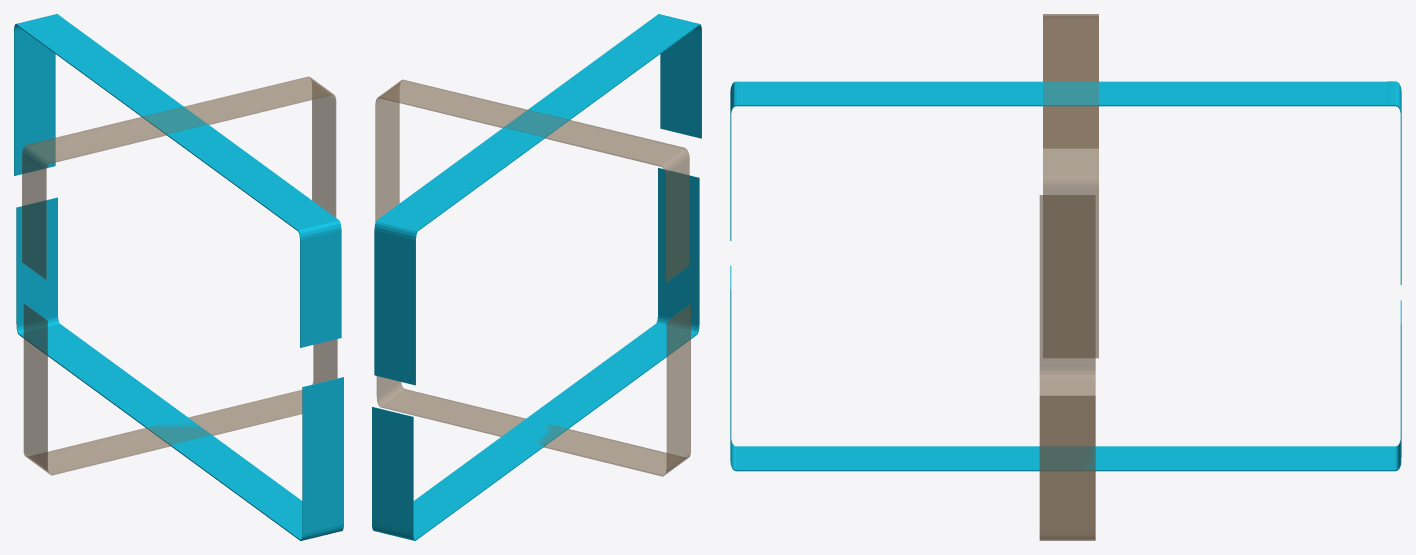
Rendered from tape_close_4.fbx.
3 views of the same model, side by side, from view 1: azimuth 30°, elevation 25°; view 2: azimuth 150°, elevation 25°; view 3: azimuth 270°, elevation 25° (orthographic). The views are drawn at different scales.
Parts seen in each view (by area): view 1: tape_0.008, tape_0.018; view 2: tape_0.008, tape_0.018; view 3: tape_0.008, tape_0.018.
Part boxes in pixels (bbox=[...]): tape_0.008: bbox=[14, 14, 343, 540]; tape_0.018: bbox=[22, 76, 337, 475]; tape_0.008: bbox=[372, 14, 701, 540]; tape_0.018: bbox=[375, 79, 690, 476]; tape_0.008: bbox=[730, 81, 1401, 471]; tape_0.018: bbox=[1039, 14, 1098, 540].
Bounding box in the file's own units: 147 × 151 × 251.
